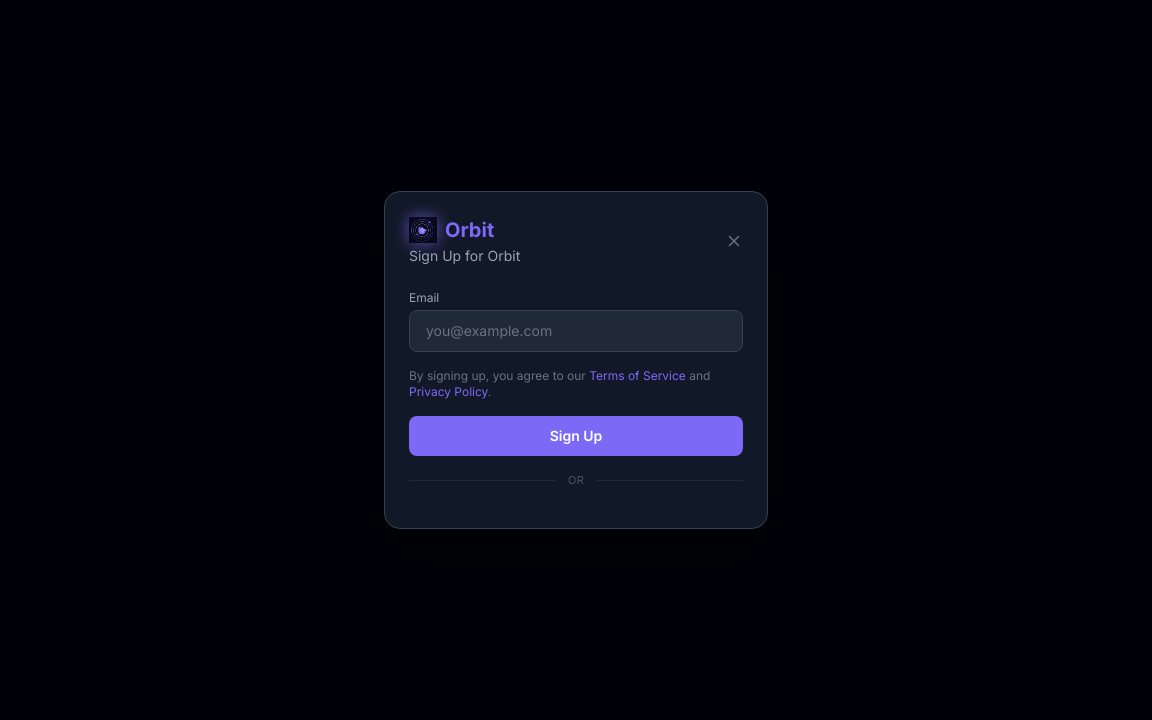
Test: REQ-028 — Sign Up Modal › [REQ-028] invalid email shows inline error
In the field labelled "Email": (576, 331) top-left (409, 310), bottom-right (743, 352), type "notanemail"
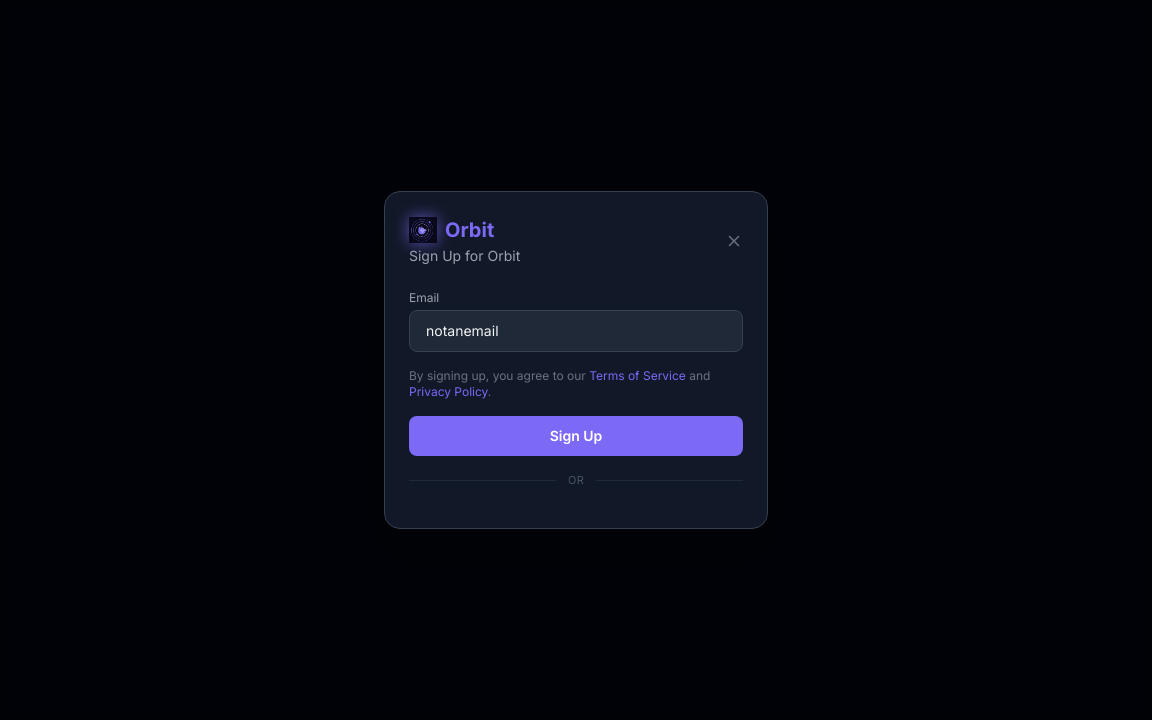
Note: Use fireEvent.submit directly — jsdom's native email validation blocks click→submit for invalid values
Submit the form named "Sign Up", box top-left (385, 290), bottom-right (767, 528)
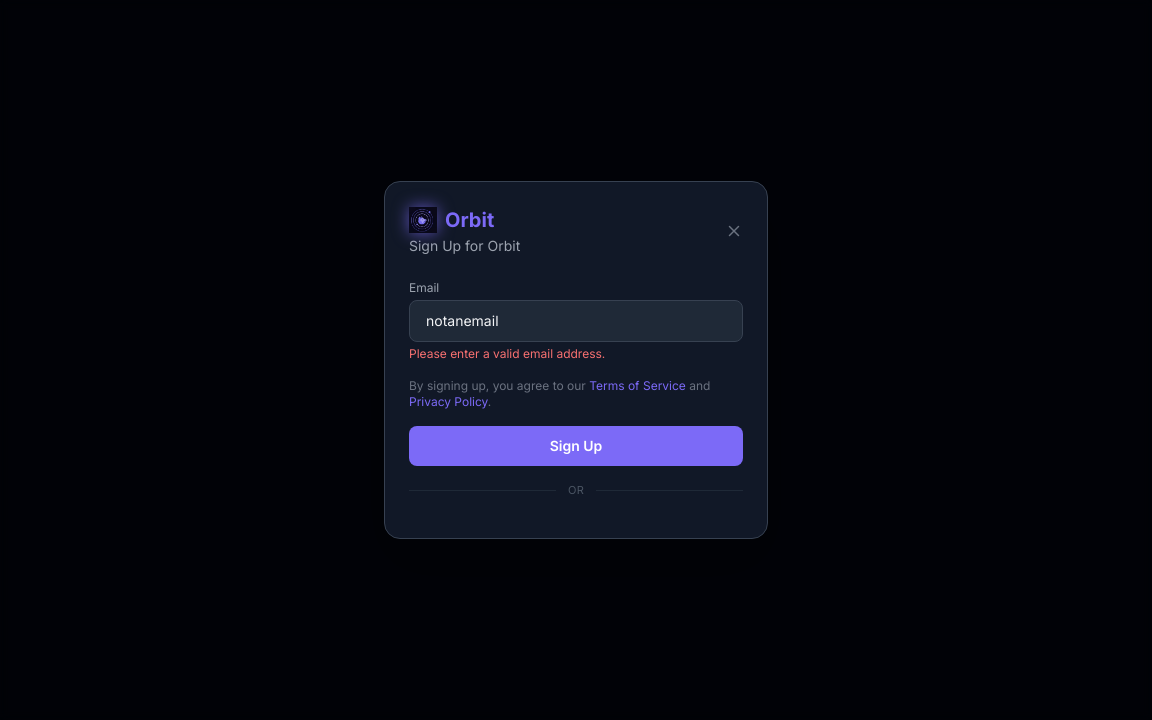
Result: the text "Please enter a valid email address." is shown at top-left (409, 346), bottom-right (605, 361)
